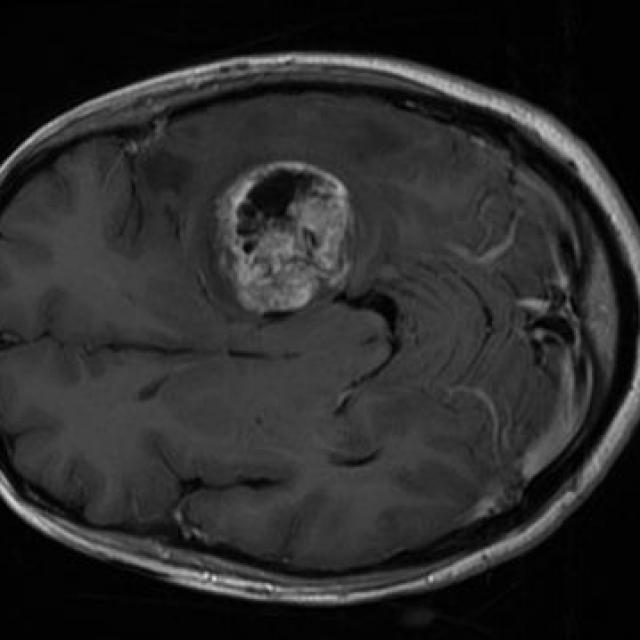glioma: (209, 162, 355, 317)
